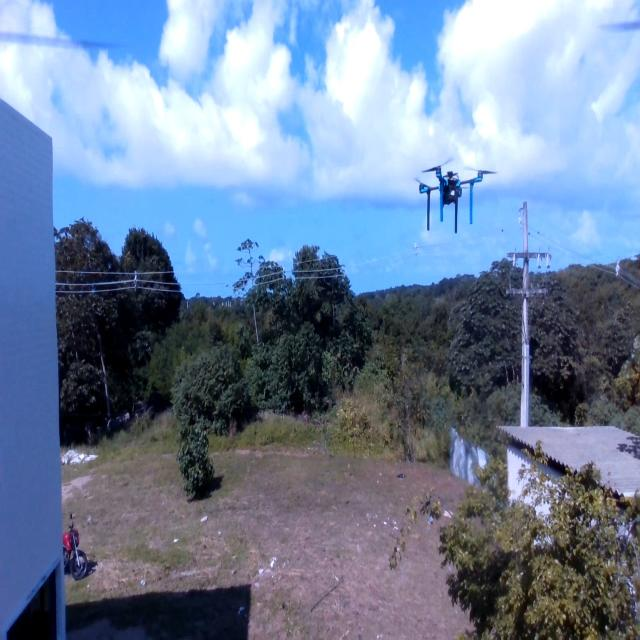-uav-: (399, 148, 504, 264)
